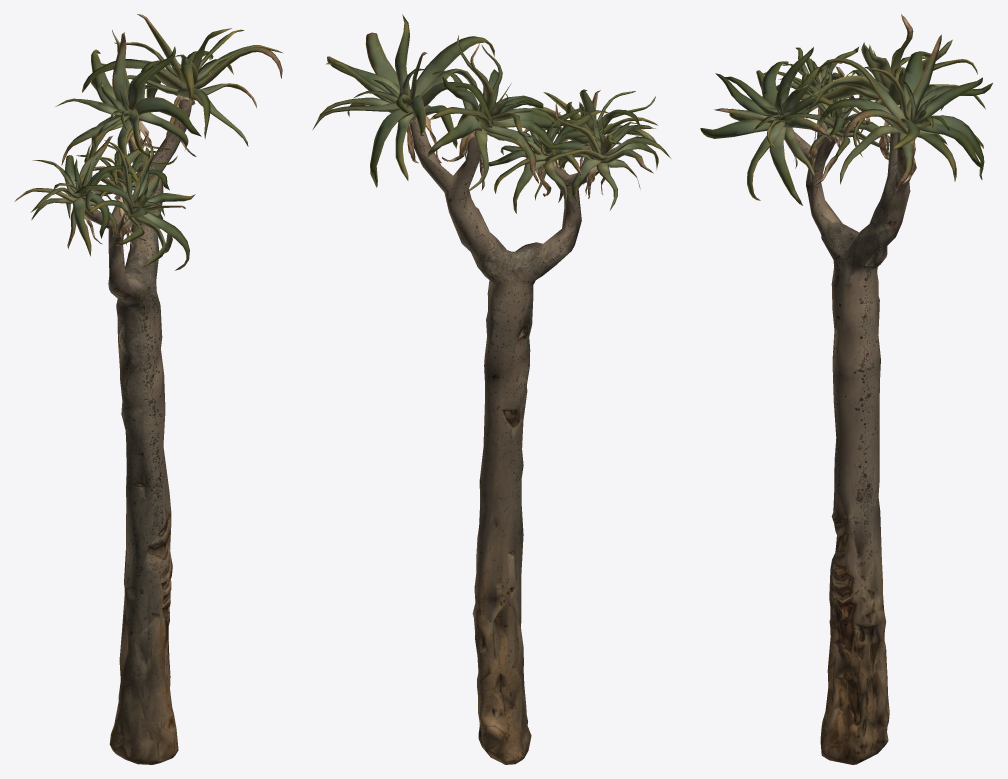
Rendered from quiver_tree_01.glb.
The picture shows the model from 3 angles, left to right: view 1: azimuth 30°, elevation 25°; view 2: azimuth 150°, elevation 25°; view 3: azimuth 270°, elevation 25°; orthographic projection. The views are drawn at different scales.
Visible parts, largest first — view 1: quiver_tree_01; view 2: quiver_tree_01; view 3: quiver_tree_01.
Boxes of the visible parts, box(x1,y1,x2,y2) form: quiver_tree_01: box(14, 14, 283, 764); quiver_tree_01: box(312, 14, 670, 764); quiver_tree_01: box(700, 14, 992, 764).
Bounding box in the file's own units: 1.18 × 2.72 × 0.9676.
Materials: 2 (2 with a texture image).
